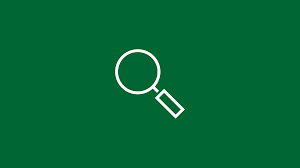searchIcon: (114, 48, 185, 120)
